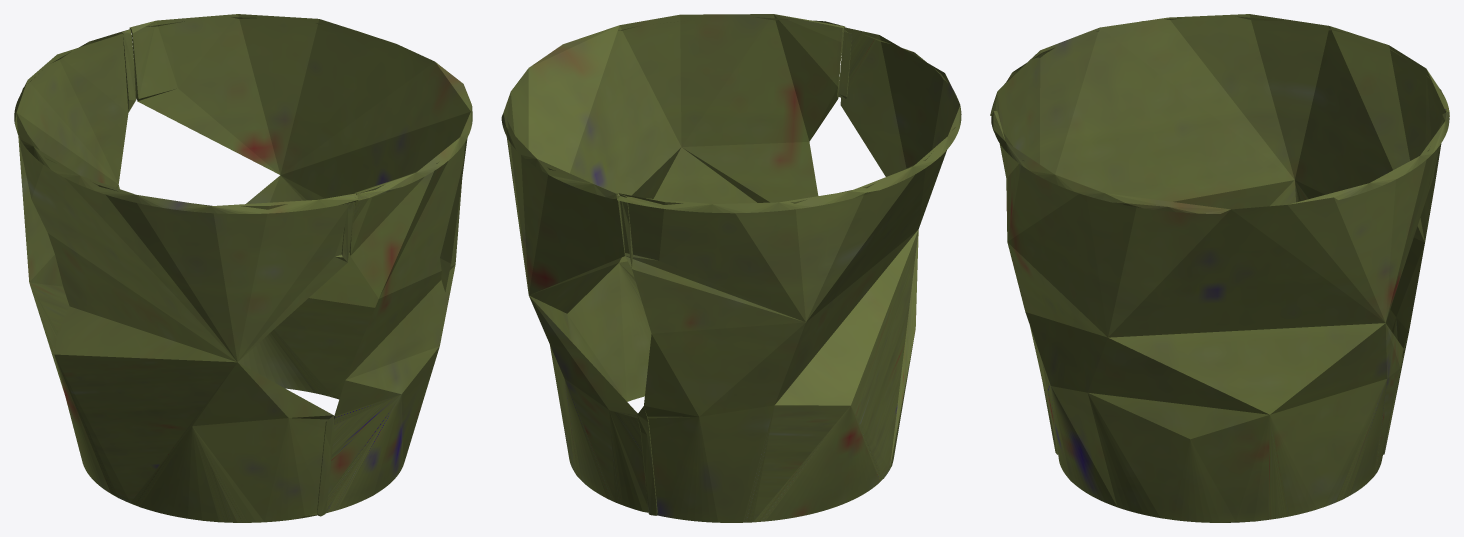
File: cleaning_bucket_painted_a01.glb
The picture shows the model from 3 angles, left to right: view 1: azimuth 30°, elevation 25°; view 2: azimuth 150°, elevation 25°; view 3: azimuth 270°, elevation 25°; orthographic projection.
Visible parts, largest first — view 1: geometry_0; view 2: geometry_0; view 3: geometry_0.
Boxes of the visible parts, x1,y1,x2,y2 form: geometry_0: [14, 14, 472, 522]; geometry_0: [501, 14, 961, 522]; geometry_0: [990, 14, 1449, 522].
Bounding box in the file's own units: 0.4191 × 0.349 × 0.42.
1 material, 1 textured.
